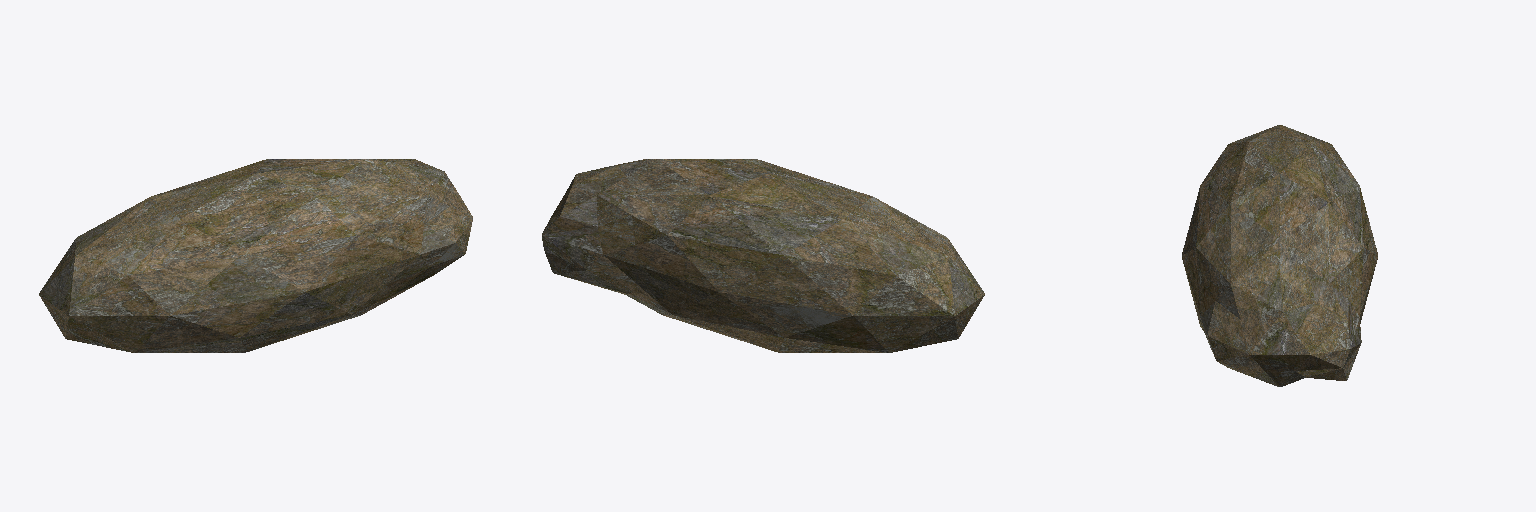
3 views of the same model, side by side, from view 1: azimuth 30°, elevation 25°; view 2: azimuth 150°, elevation 25°; view 3: azimuth 270°, elevation 25° (orthographic).
Parts seen in each view (by area): view 1: ICO球.002; view 2: ICO球.002; view 3: ICO球.002.
Part boxes in pixels (left/top/right/bottom): ICO球.002: left=39, top=159, right=472, bottom=352; ICO球.002: left=542, top=159, right=984, bottom=352; ICO球.002: left=1182, top=125, right=1377, bottom=386.
Size of the model in its own units: 179 by 69.9 by 75.66.
1 materials, 1 textured.